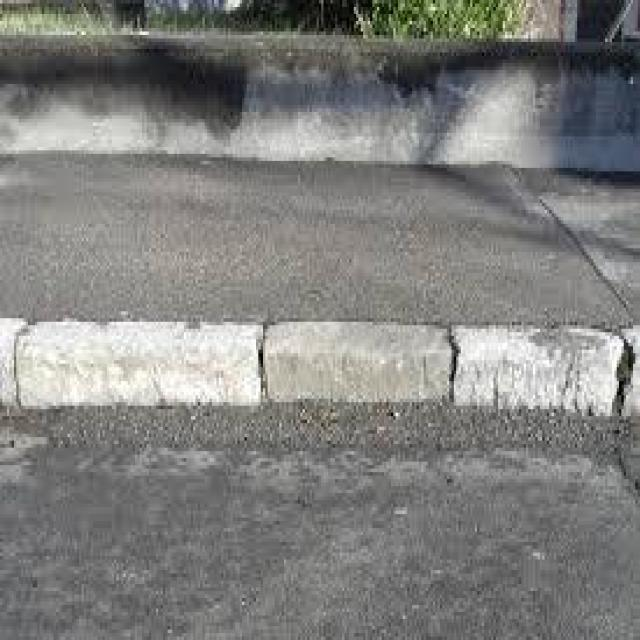bump: (27, 291, 640, 459)
